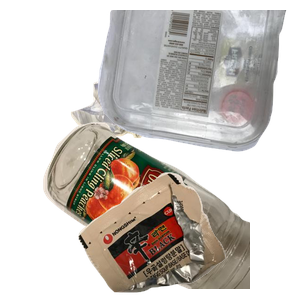glass: (41, 120, 281, 300)
paper: (68, 66, 215, 197)
plastic: (95, 10, 300, 154)
trash: (76, 170, 300, 300)
